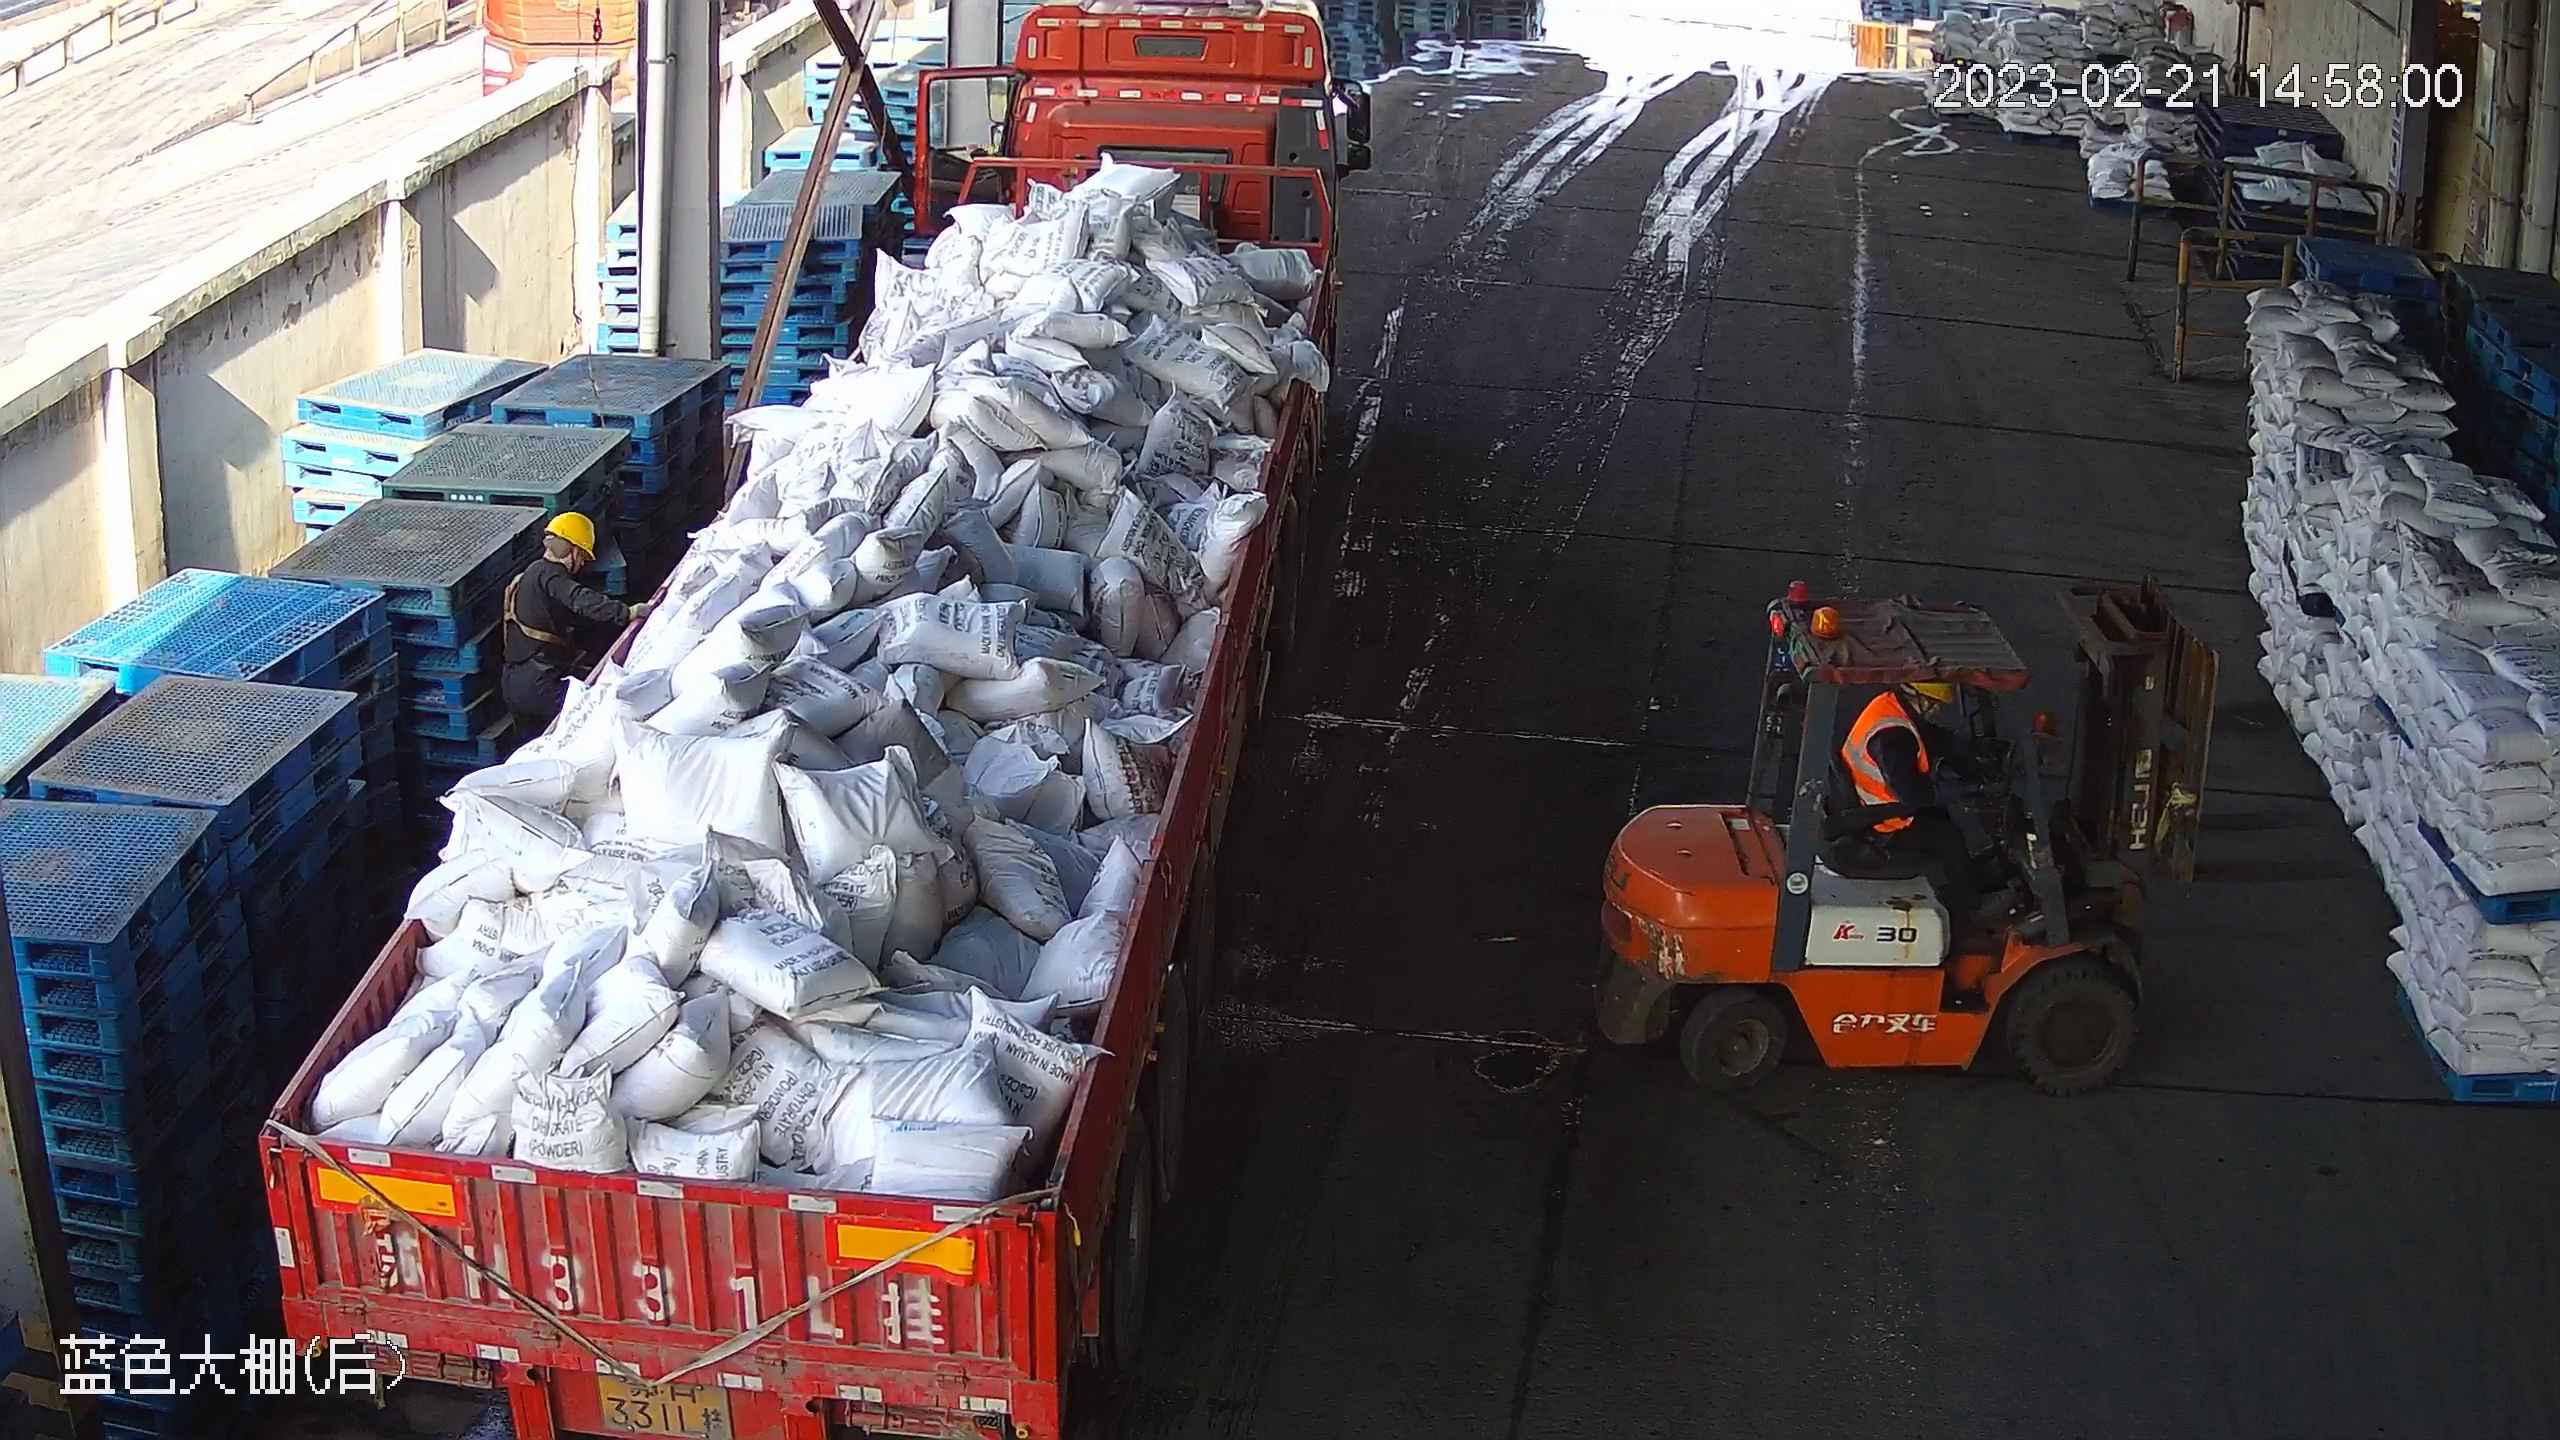belt: (498, 575, 558, 657)
head: (502, 508, 606, 614)
helmet: (543, 510, 596, 555)
people: (1840, 674, 2024, 924), (497, 509, 657, 741)
truck: (251, 1, 1374, 1437)
